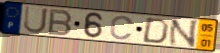6: (83, 11, 105, 40)
B: (46, 8, 75, 37)
C: (109, 15, 135, 41)
D: (140, 17, 171, 45)
N: (167, 19, 201, 49)
U: (22, 5, 49, 35)
